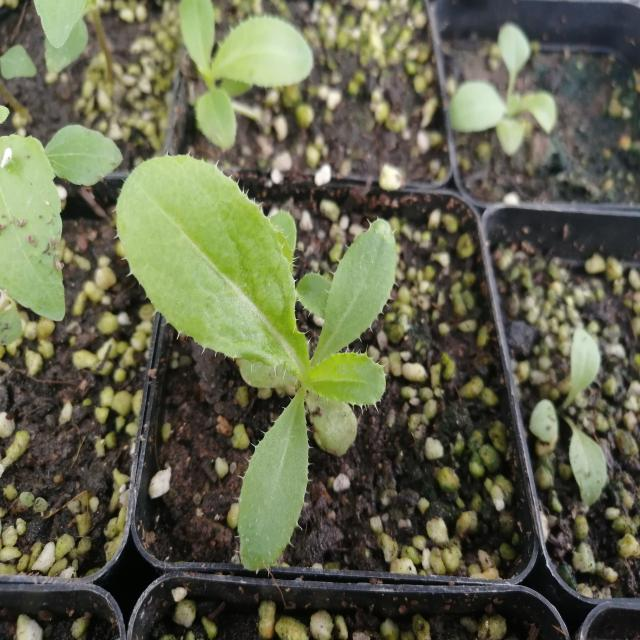field_thistle: (114, 153, 418, 561)
